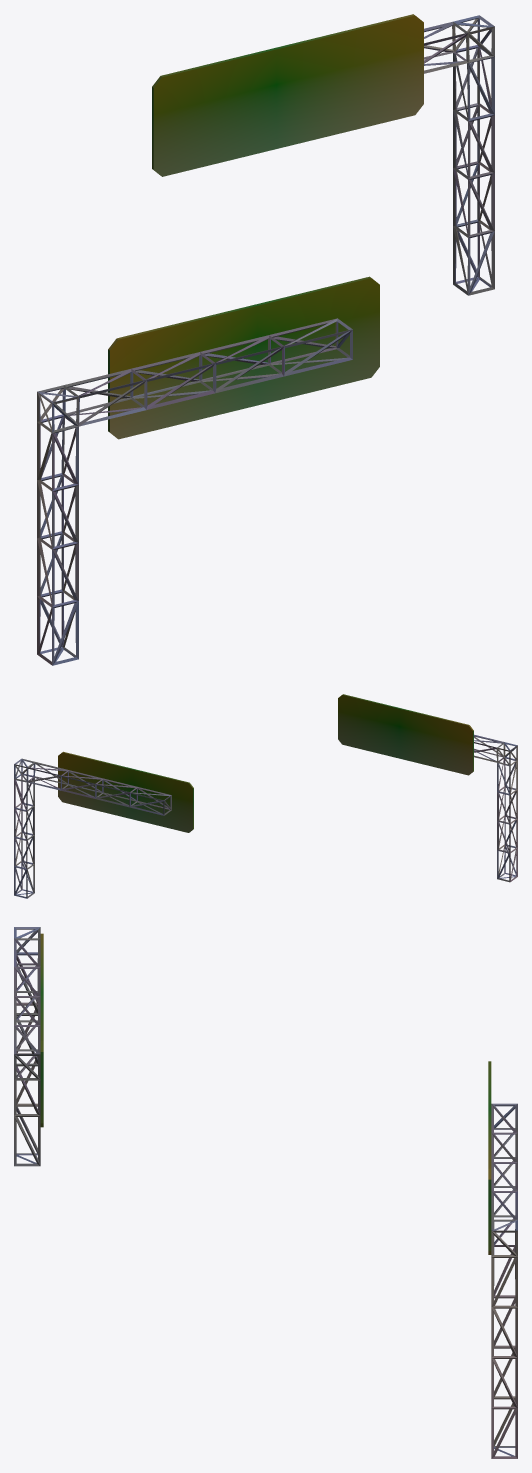
The model's file is StageSign2.fbx.
The picture shows the model from 3 angles, top to bottom: view 1: azimuth 30°, elevation 25°; view 2: azimuth 150°, elevation 25°; view 3: azimuth 270°, elevation 25°; orthographic projection. The views are drawn at different scales.
Visible parts, largest first — view 1: StageSign2; view 2: StageSign2; view 3: StageSign2.
Part boxes in pixels (x1,y1,x2,y2): StageSign2: (37, 14, 494, 665); StageSign2: (14, 694, 517, 898); StageSign2: (14, 927, 517, 1458).
Size of the model in its own units: 45.17 by 17.75 by 31.67.
